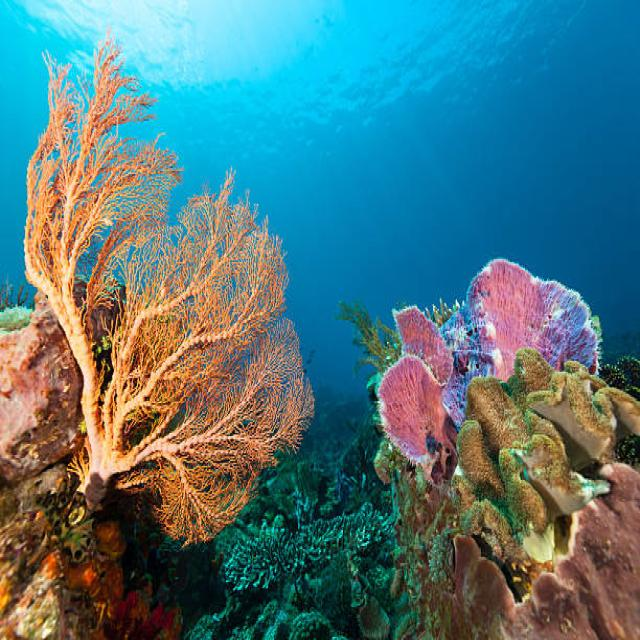Coral: (24, 24, 315, 548), (378, 257, 599, 488), (452, 346, 640, 565)
